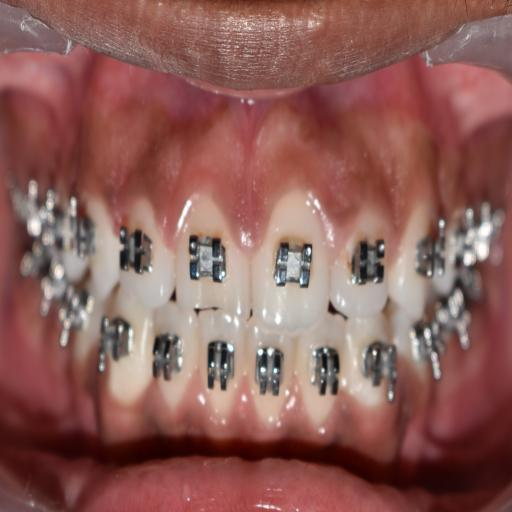correct_brace: (265, 228, 315, 300), (187, 224, 232, 296), (347, 225, 389, 289), (121, 220, 159, 285), (360, 336, 398, 401), (255, 339, 287, 410), (307, 338, 339, 408), (153, 329, 186, 391), (105, 317, 137, 378), (205, 332, 235, 397)
incorrect_brace: (328, 194, 394, 318), (117, 193, 174, 305), (298, 321, 345, 436), (151, 308, 199, 420)
